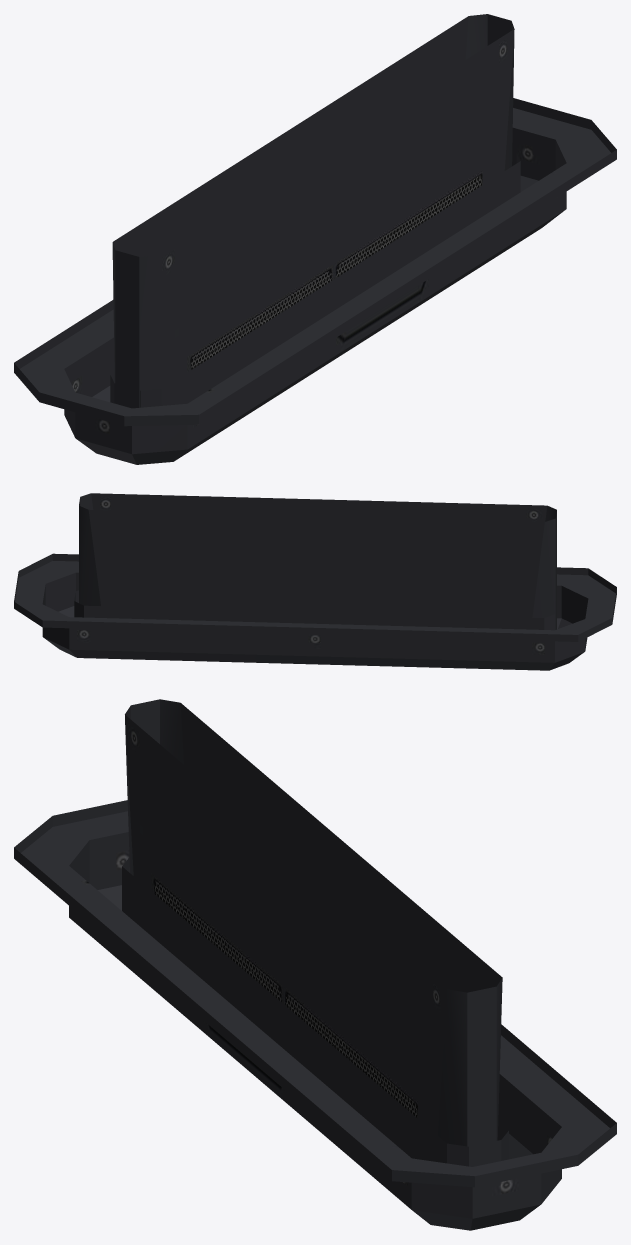
File: Second_projector.glb
The picture shows the model from 3 angles, top to bottom: view 1: azimuth 30°, elevation 25°; view 2: azimuth 150°, elevation 25°; view 3: azimuth 270°, elevation 25°; orthographic projection. The views are drawn at different scales.
Parts seen in each view (by area): view 1: orojector_low, box_low; view 2: orojector_low, box_low; view 3: orojector_low, box_low.
Boxes of the visible parts, left/top/right/bottom form: orojector_low: left=112, top=14, right=514, bottom=408; box_low: left=14, top=98, right=616, bottom=464; orojector_low: left=79, top=493, right=556, bottom=629; box_low: left=14, top=553, right=616, bottom=670; orojector_low: left=125, top=699, right=502, bottom=1146; box_low: left=14, top=800, right=616, bottom=1230.
Size of the model in its own units: 0.5882 by 0.1613 by 0.3923.
1 material, 1 textured.
